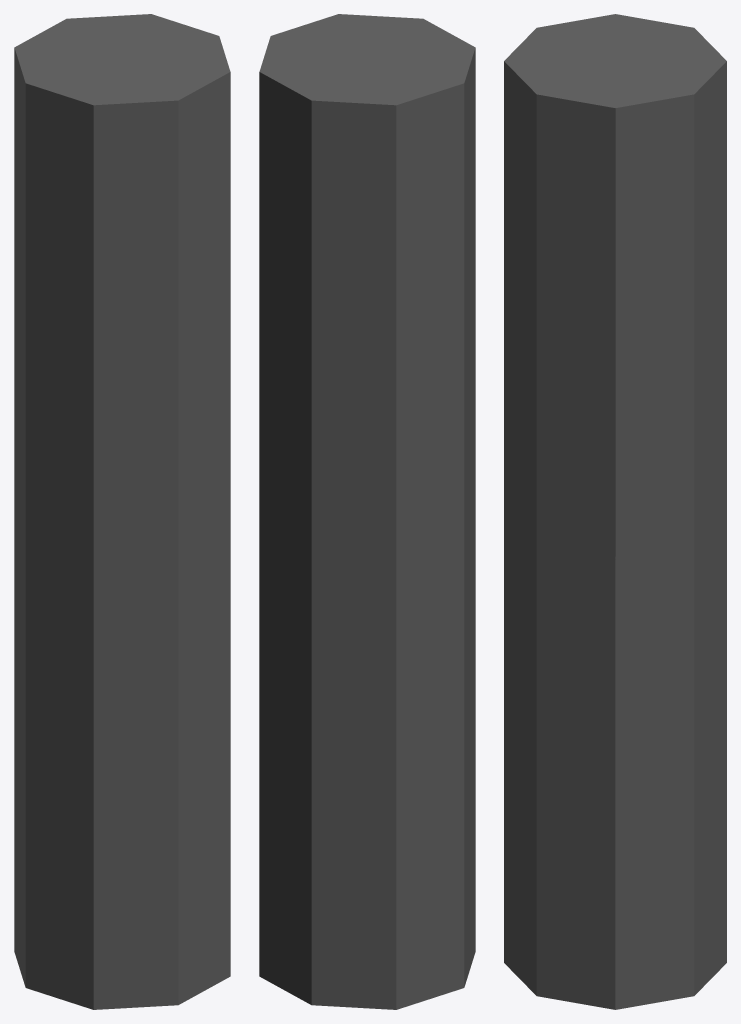
The model's file is Pillar_07.FBX.
3 views of the same model, side by side, from view 1: azimuth 30°, elevation 25°; view 2: azimuth 150°, elevation 25°; view 3: azimuth 270°, elevation 25° (orthographic).
Parts seen in each view (by area): view 1: Pillar_07; view 2: Pillar_07; view 3: Pillar_07.
Part boxes in pixels (<box>): Pillar_07: <box>14,14,230,1009</box>; Pillar_07: <box>259,14,475,1009</box>; Pillar_07: <box>504,14,726,1009</box>.
Size of the model in its own units: 40.33 by 180 by 40.33.
